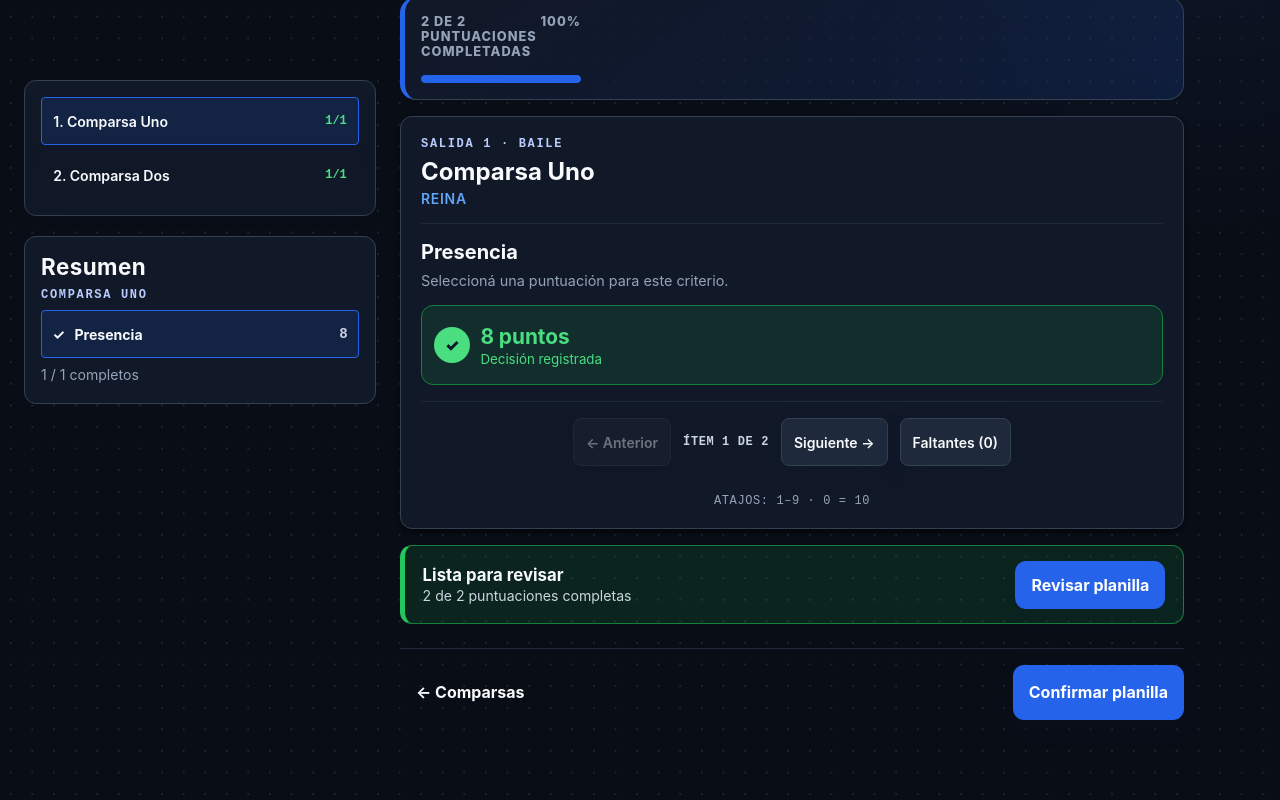
Scenario: JudgeBallotPage › muestra pendientes si el servidor rechaza la confirmación
(page scrolled)
Expected: the heading "Comparsa Uno" is shown, [421,157,595,186]
Click the button "Confirmar planilla". click: (1098, 692)
box: [1013,665,1184,720]
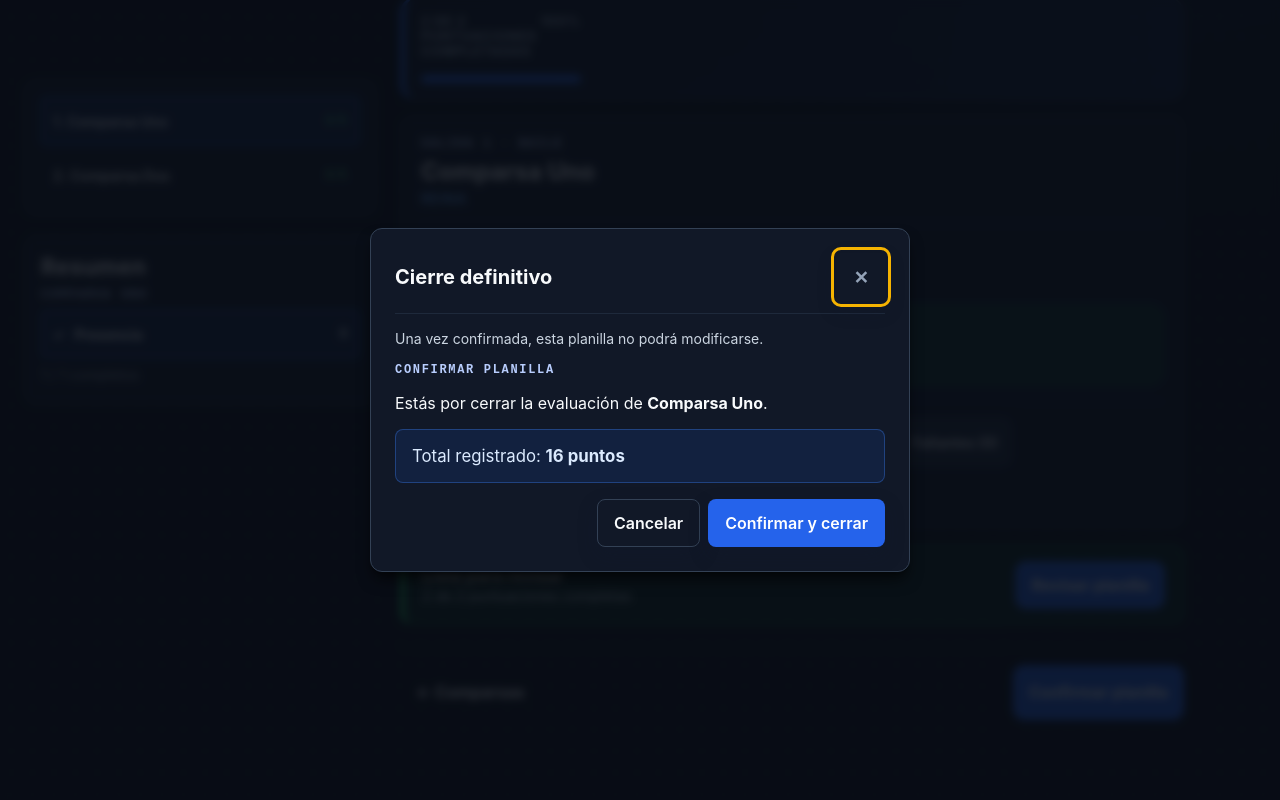
Click the button "Confirmar y cerrar". click: (797, 523)
box: [708,499,885,547]
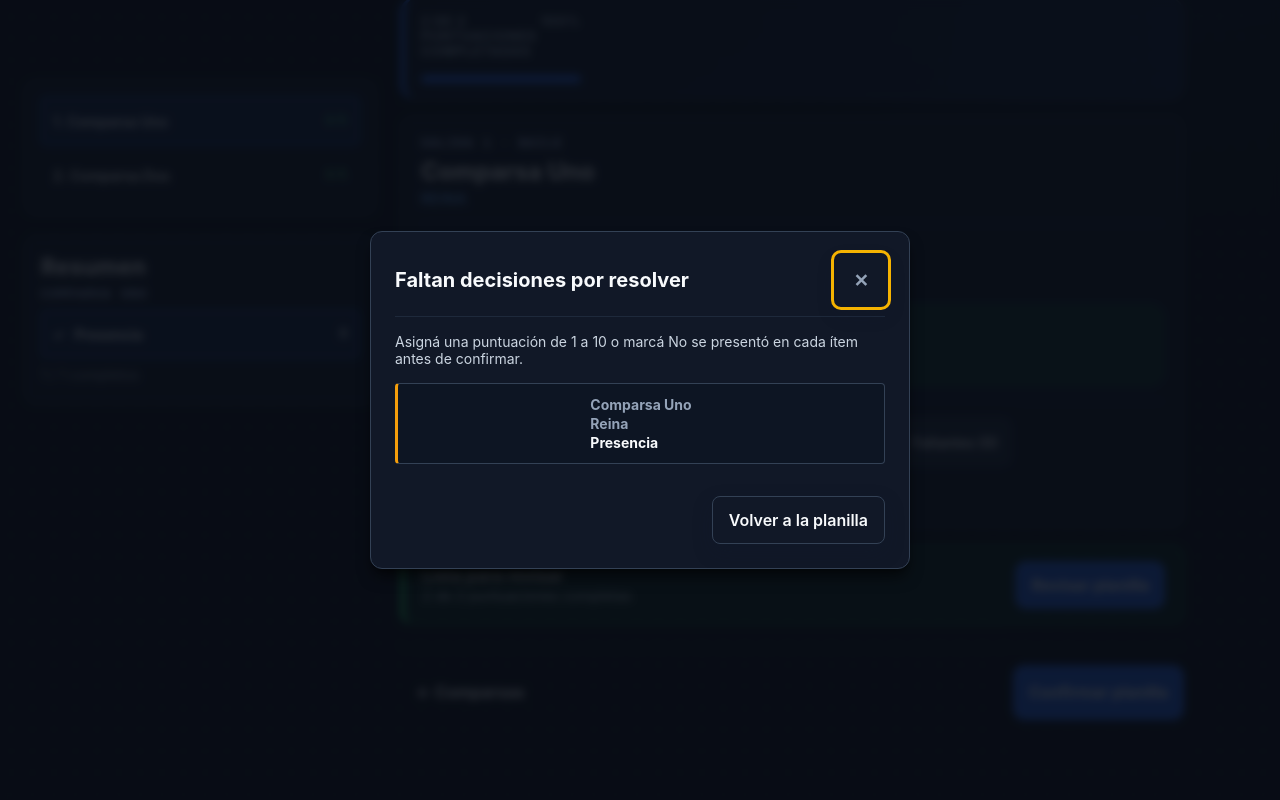
Expected: the dialog "Faltan decisiones por resolver" is shown, [370,231,910,569]
